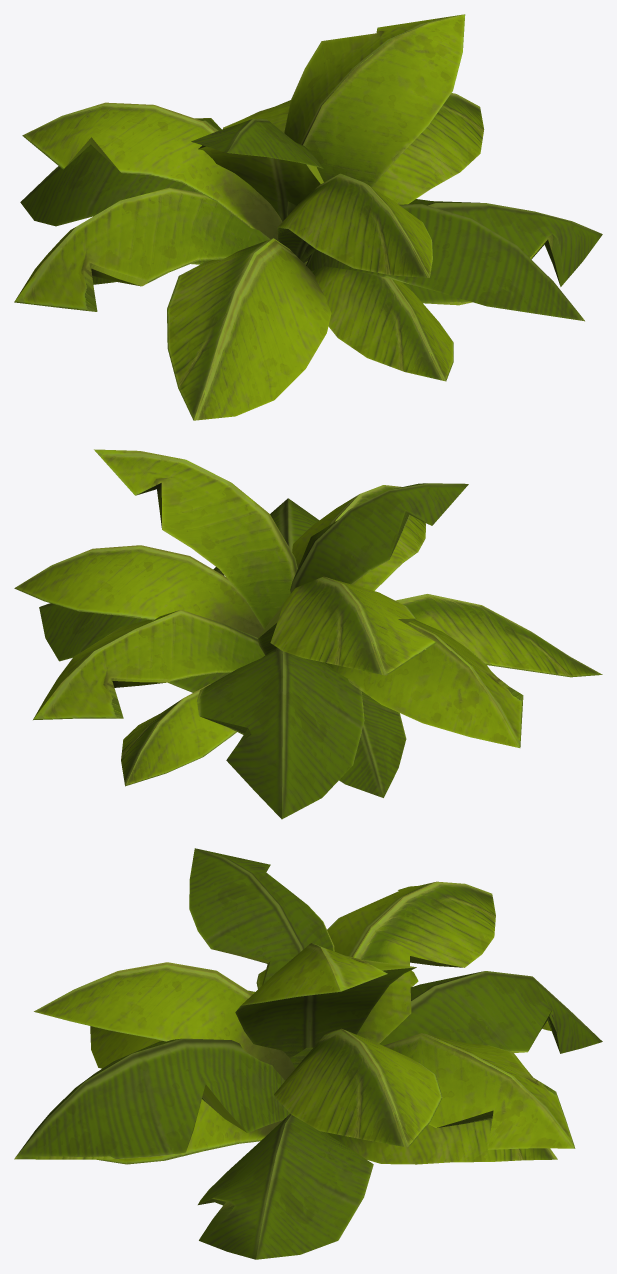
File: plant.glb
The picture shows the model from 3 angles, top to bottom: view 1: azimuth 30°, elevation 25°; view 2: azimuth 150°, elevation 25°; view 3: azimuth 270°, elevation 25°; orthographic projection. The views are drawn at different scales.
Parts seen in each view (by area): view 1: PP_Prop_07; view 2: PP_Prop_07; view 3: PP_Prop_07.
Boxes of the visible parts, bbox=[...] form: PP_Prop_07: bbox=[14, 14, 602, 420]; PP_Prop_07: bbox=[14, 449, 602, 819]; PP_Prop_07: bbox=[14, 848, 602, 1259].
Bounding box in the file's own units: 1.87 × 0.7894 × 1.72.
Materials: 1 (1 with a texture image).
